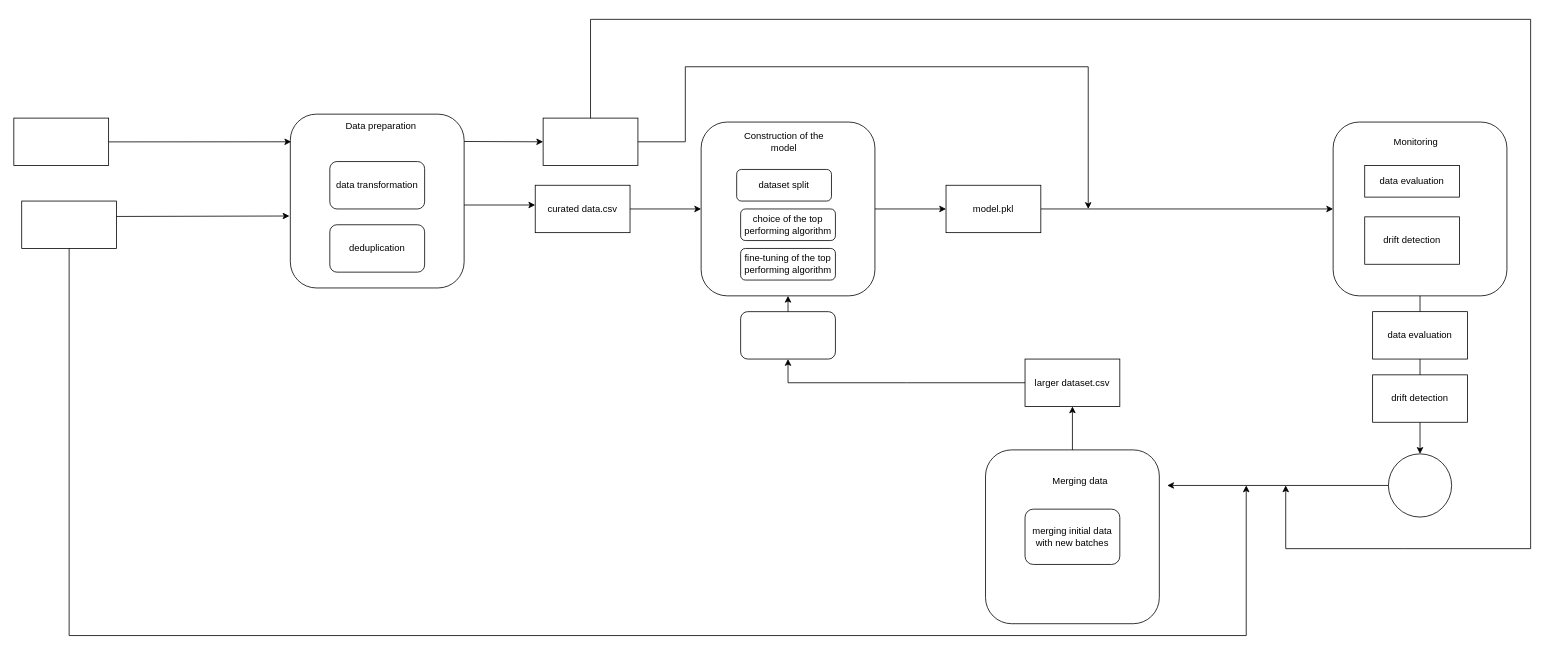
Some shapes in this 1551 by 656 pixel diagram are drawn without their labels. Each missing label, with the centre of its shape:
curated batch.csv: (x=590, y=141)
Drift detected: (x=1420, y=485)
initial data: (x=69, y=224)
new batch: (x=61, y=141)
retraining the model: (x=787, y=335)
